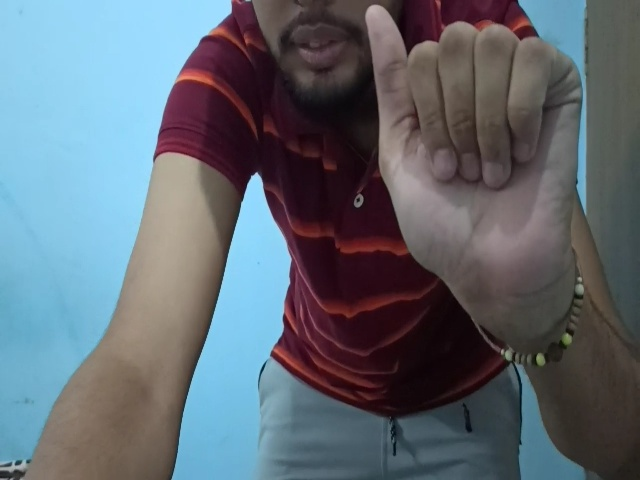A: (366, 4, 582, 302)
